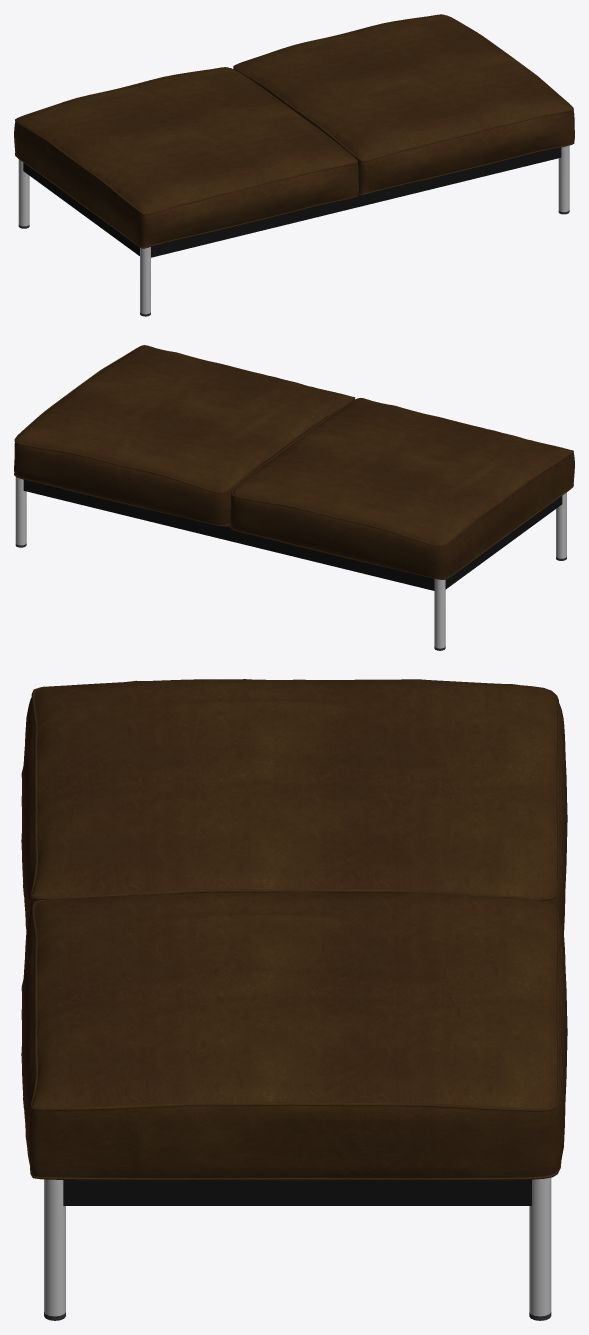
The model's file is helion-leather.glb.
3 renders of one model, top to bottom at view 1: azimuth 30°, elevation 25°; view 2: azimuth 150°, elevation 25°; view 3: azimuth 270°, elevation 25°, orthographic. The views are drawn at different scales.
Visible parts, largest first — view 1: helion-leather; view 2: helion-leather; view 3: helion-leather.
Boxes of the visible parts, bbox=[...] form: helion-leather: bbox=[14, 14, 574, 316]; helion-leather: bbox=[14, 345, 574, 650]; helion-leather: bbox=[21, 679, 567, 1320].
Size of the model in its own units: 1.67 by 0.4353 by 0.9032.
4 materials, 1 textured.
